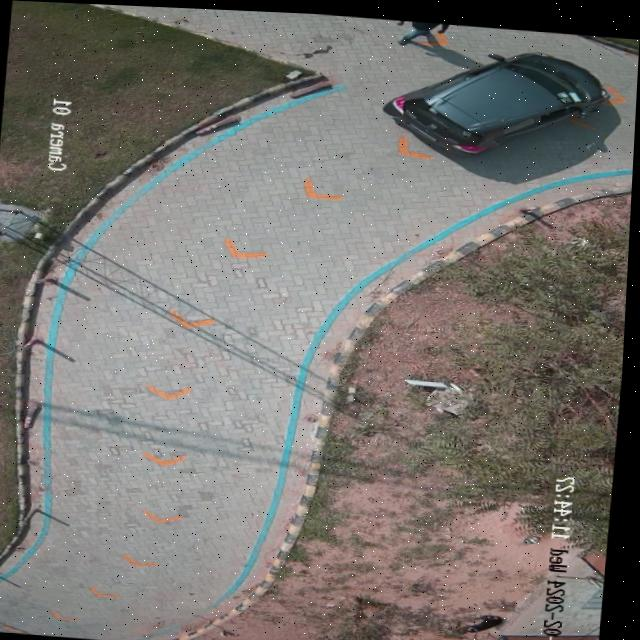car: (385, 47, 609, 148)
